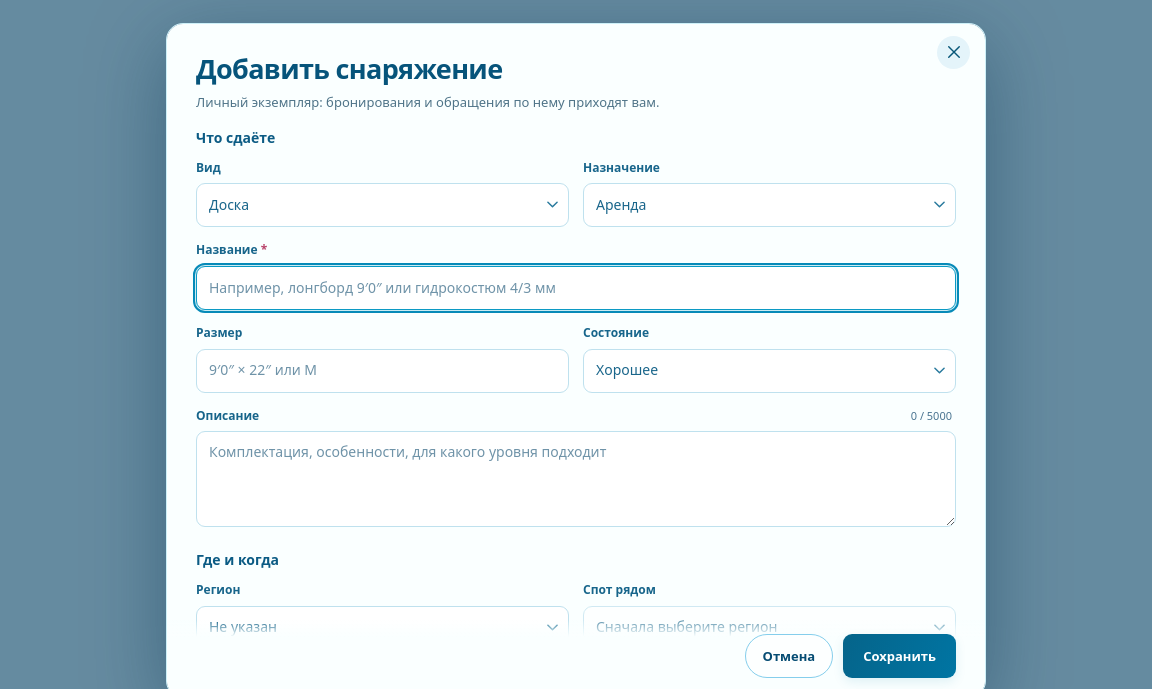
Test case: InventoryFormModal › validates on the client before sending
The width and height of the screenshot is (1152, 689).
Click the button "Сохранить" at [900, 656], box [843, 634, 956, 678]
(page scrolled)
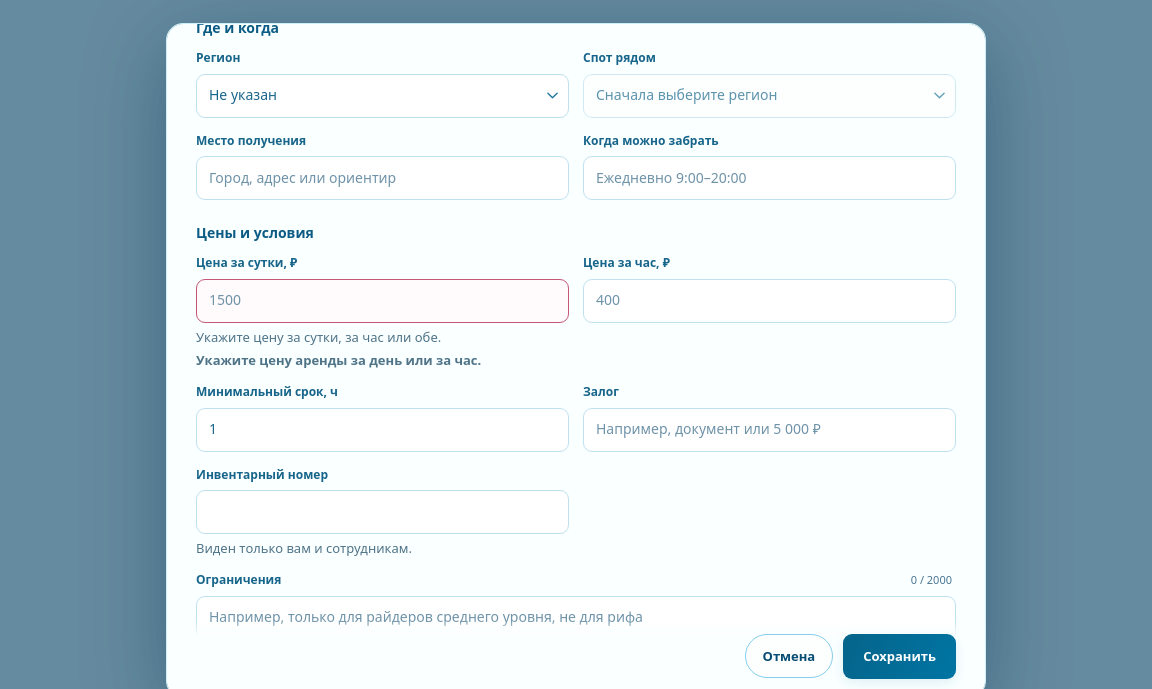
Expected: the text "Укажите цену аренды за день или за час." is shown, [196, 351, 481, 369]
